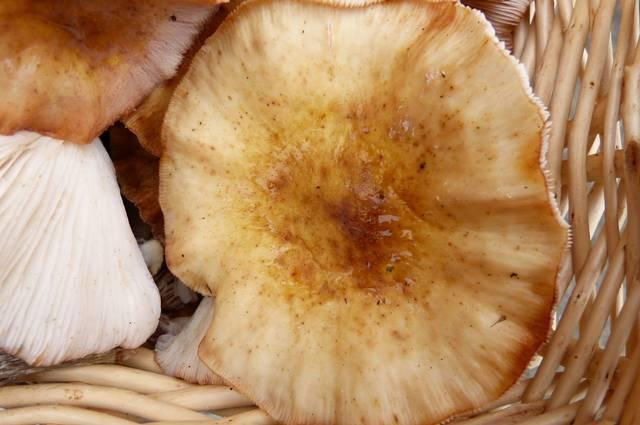Edible Mushroom: (153, 0, 571, 424), (0, 0, 230, 369)
